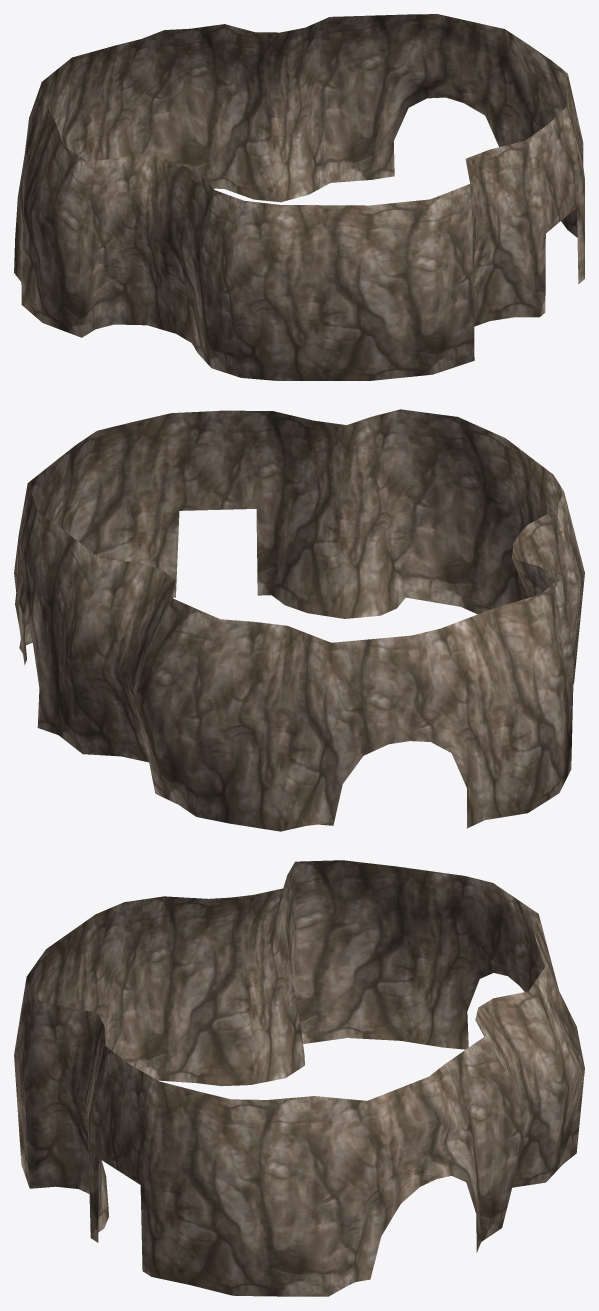
The model's file is EKH_JAIL_PS_JA_SM_CAVE_WALL83837.fbx.
3 views of the same model, one above another, from view 1: azimuth 30°, elevation 25°; view 2: azimuth 150°, elevation 25°; view 3: azimuth 270°, elevation 25° (orthographic). The views are drawn at different scales.
Parts seen in each view (by area): view 1: EKH_JAIL_PS_JA_SM_CAVE_WALL83837; view 2: EKH_JAIL_PS_JA_SM_CAVE_WALL83837; view 3: EKH_JAIL_PS_JA_SM_CAVE_WALL83837.
Part boxes in pixels (x1,y1,x2,y2): EKH_JAIL_PS_JA_SM_CAVE_WALL83837: (14, 14, 584, 380); EKH_JAIL_PS_JA_SM_CAVE_WALL83837: (14, 409, 584, 831); EKH_JAIL_PS_JA_SM_CAVE_WALL83837: (14, 860, 584, 1296).
Bounding box in the file's own units: 126588 × 42950 × 116284.
Materials: 1 (1 with a texture image).
